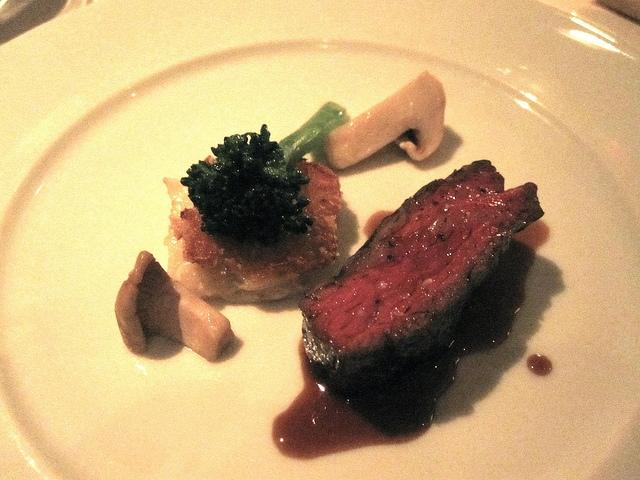mushroom: (114, 250, 236, 362), (324, 69, 446, 169)
